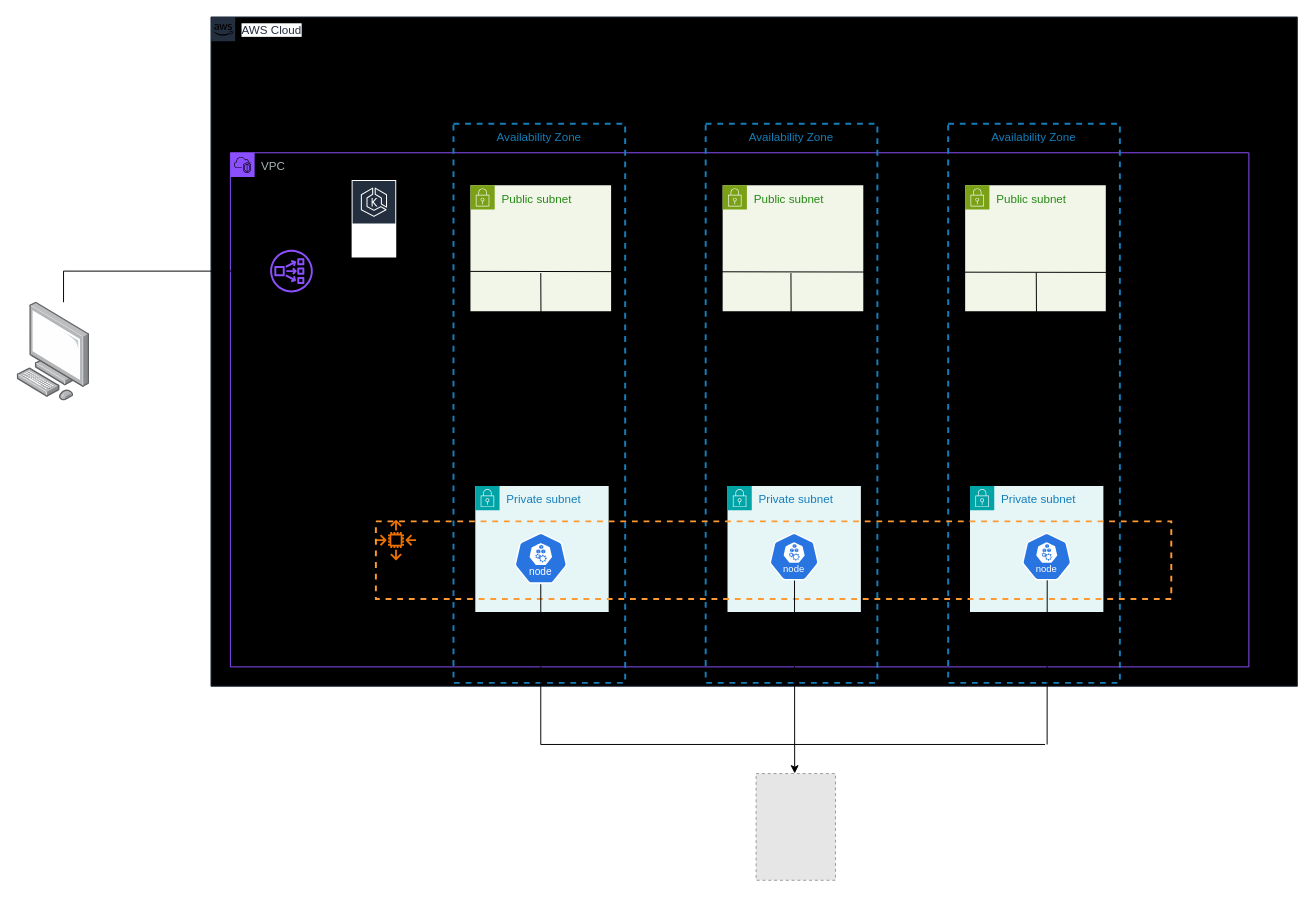
This 1314x897 diagram has some shape labels left out. Grey dashed boxes stand in for pictures. The centre of each missing label's shape, as x and y in pixels:
Amazon EKS: point (373, 218)
Auto Scaling: point (395, 539)
Network Load Balancer: point (291, 270)
